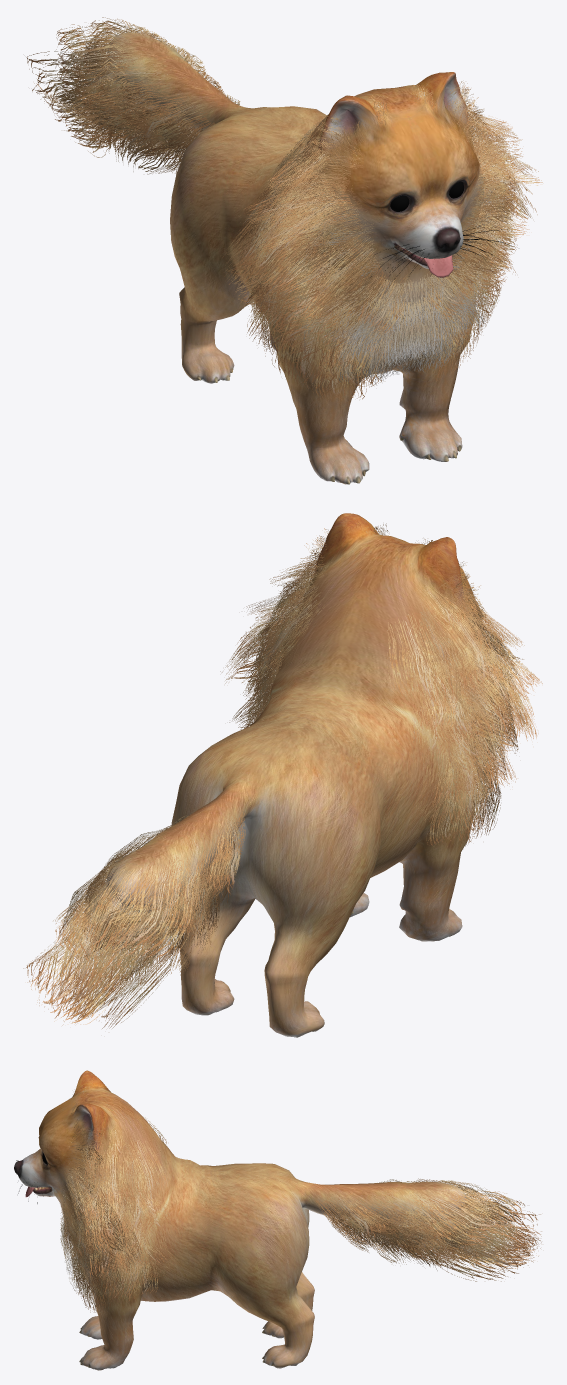
Rendered from tito.glb.
3 views of the same model, one above another, from view 1: azimuth 30°, elevation 25°; view 2: azimuth 150°, elevation 25°; view 3: azimuth 270°, elevation 25° (orthographic). The views are drawn at different scales.
Visible parts, largest first — view 1: dog_val1, fur3, fur2, tailfur2, tailfur1; view 2: dog_val1, fur2, fur3, tailfur2, tailfur1; view 3: dog_val1, fur3, fur2, tailfur2, tailfur1.
Part boxes in pixels (left/top/right/bottom): dog_val1: left=105, top=32, right=511, bottom=484; fur3: left=244, top=81, right=529, bottom=394; fur2: left=222, top=82, right=542, bottom=401; tailfur2: left=26, top=17, right=238, bottom=174; tailfur1: left=51, top=27, right=240, bottom=164; dog_val1: left=105, top=513, right=484, bottom=1037; fur2: left=220, top=523, right=542, bottom=846; fur3: left=245, top=526, right=523, bottom=838; tailfur2: left=23, top=814, right=240, bottom=1028; tailfur1: left=51, top=803, right=245, bottom=1020; dog_val1: left=14, top=1070, right=465, bottom=1370; fur3: left=58, top=1085, right=179, bottom=1311; fur2: left=60, top=1083, right=171, bottom=1312; tailfur2: left=325, top=1180, right=540, bottom=1281; tailfur1: left=315, top=1178, right=541, bottom=1266.
Bounding box in the file's own units: 0.3482 × 0.4118 × 0.7699.
Materials: 2 (2 with a texture image).
